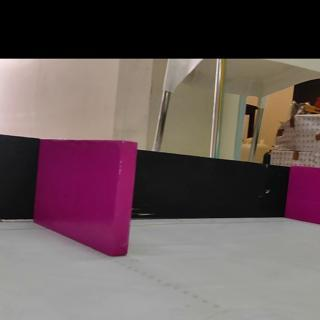xparking: (41, 141, 135, 257), (291, 165, 320, 225)
